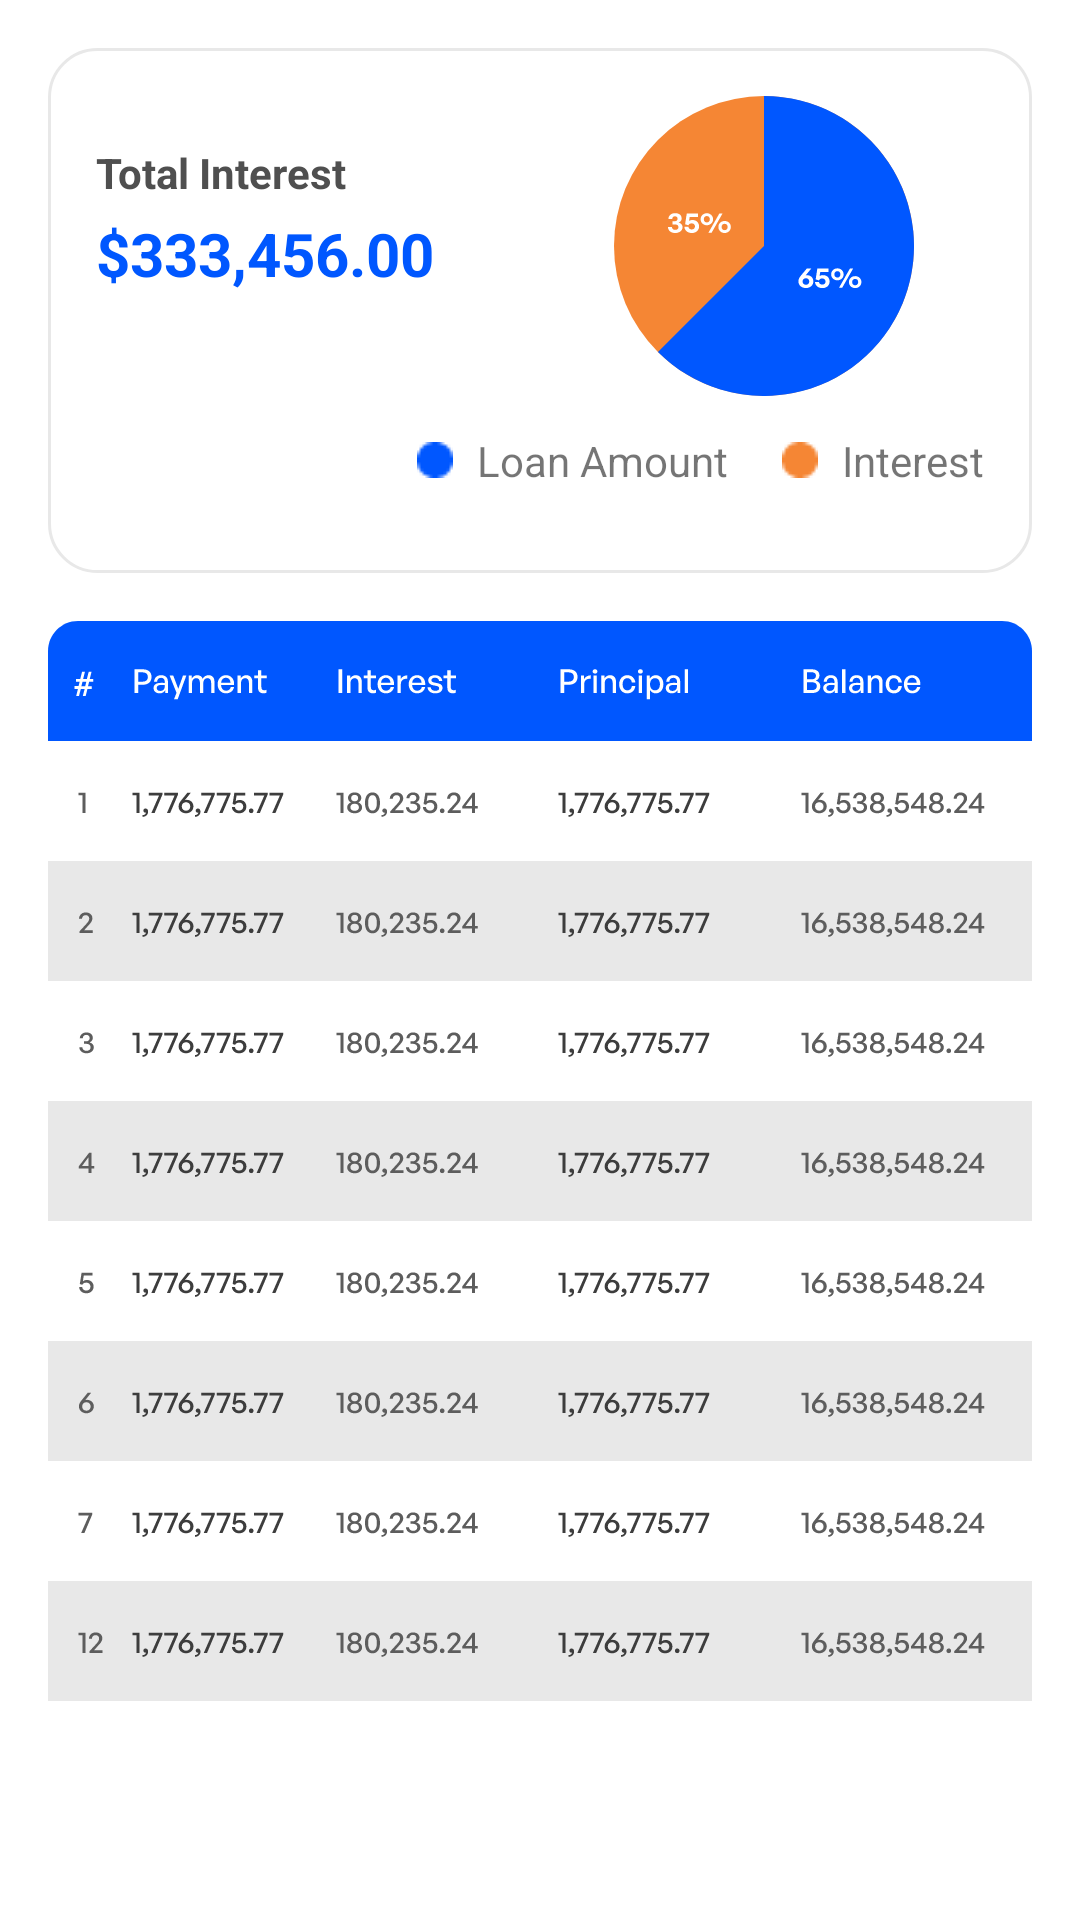

Icon bounding boxes for this 1080×1920 phone screenshot, format (x1, y1, x2, y2):
circle table: (614, 96, 914, 396)
